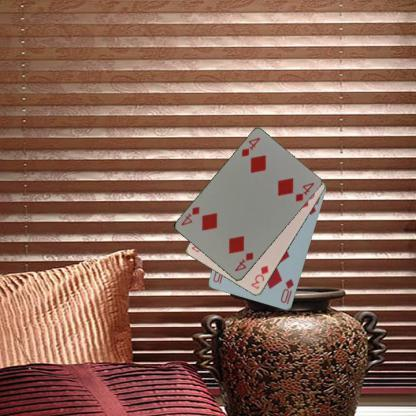10d: (278, 276, 296, 306)
3d: (248, 263, 270, 291)
4d: (238, 136, 262, 158), (232, 250, 254, 272)
